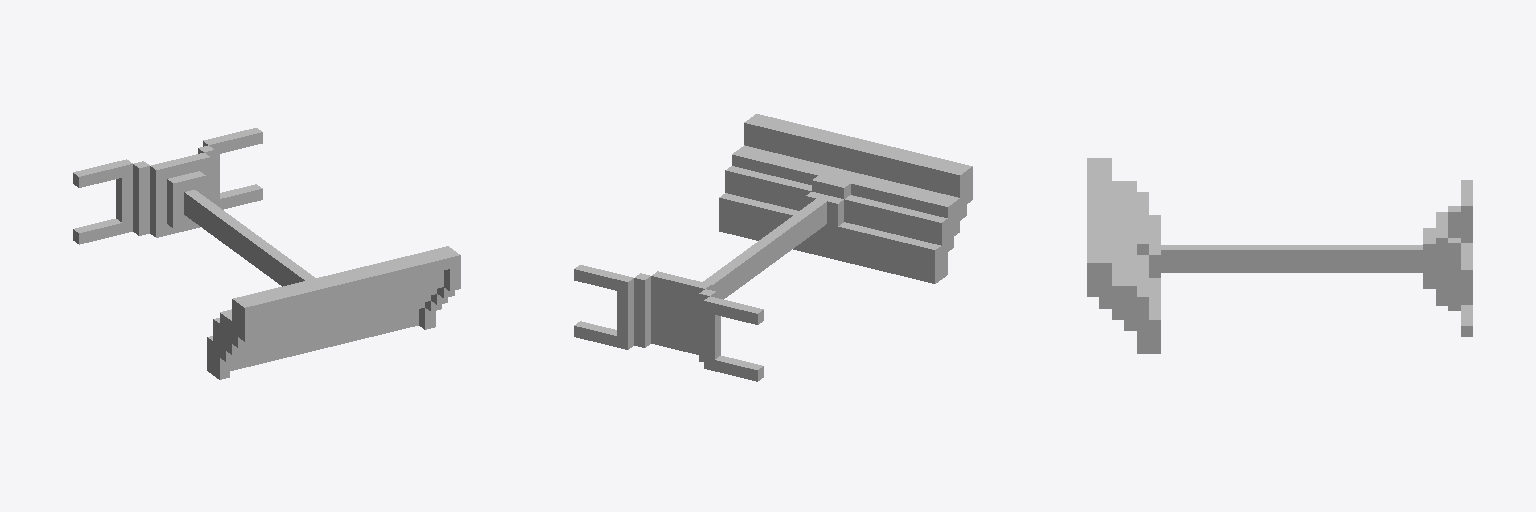
File: apoyaLibre.obj
3 views of the same model, side by side, from view 1: azimuth 30°, elevation 25°; view 2: azimuth 150°, elevation 25°; view 3: azimuth 270°, elevation 25° (orthographic).
Parts seen in each view (by area): view 1: apoyaLibre; view 2: apoyaLibre; view 3: apoyaLibre.
Boxes of the visible parts, x1,y1,x2,y2 form: apoyaLibre: [73, 128, 460, 379]; apoyaLibre: [574, 114, 972, 381]; apoyaLibre: [1087, 158, 1472, 353].
Bounding box in the file's own units: 100 × 40 × 155.